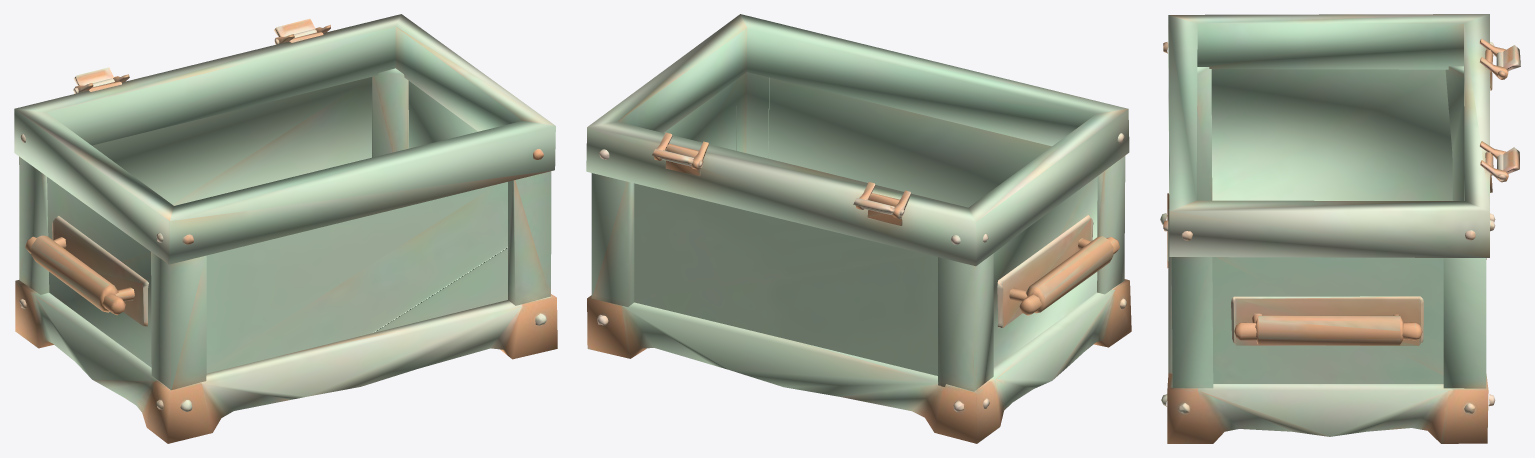
The model's file is toyBoxBody.glb.
3 renders of one model, left to right at view 1: azimuth 30°, elevation 25°; view 2: azimuth 150°, elevation 25°; view 3: azimuth 270°, elevation 25°, orthographic. The views are drawn at different scales.
Parts seen in each view (by area): view 1: toyBoxBody; view 2: toyBoxBody; view 3: toyBoxBody.
Boxes of the visible parts, left/top/right/bottom form: toyBoxBody: left=14, top=14, right=557, bottom=443; toyBoxBody: left=586, top=14, right=1131, bottom=443; toyBoxBody: left=1160, top=14, right=1520, bottom=443.
Size of the model in its own units: 0.7001 by 0.3528 by 0.4749.
Materials: 1 (1 with a texture image).
